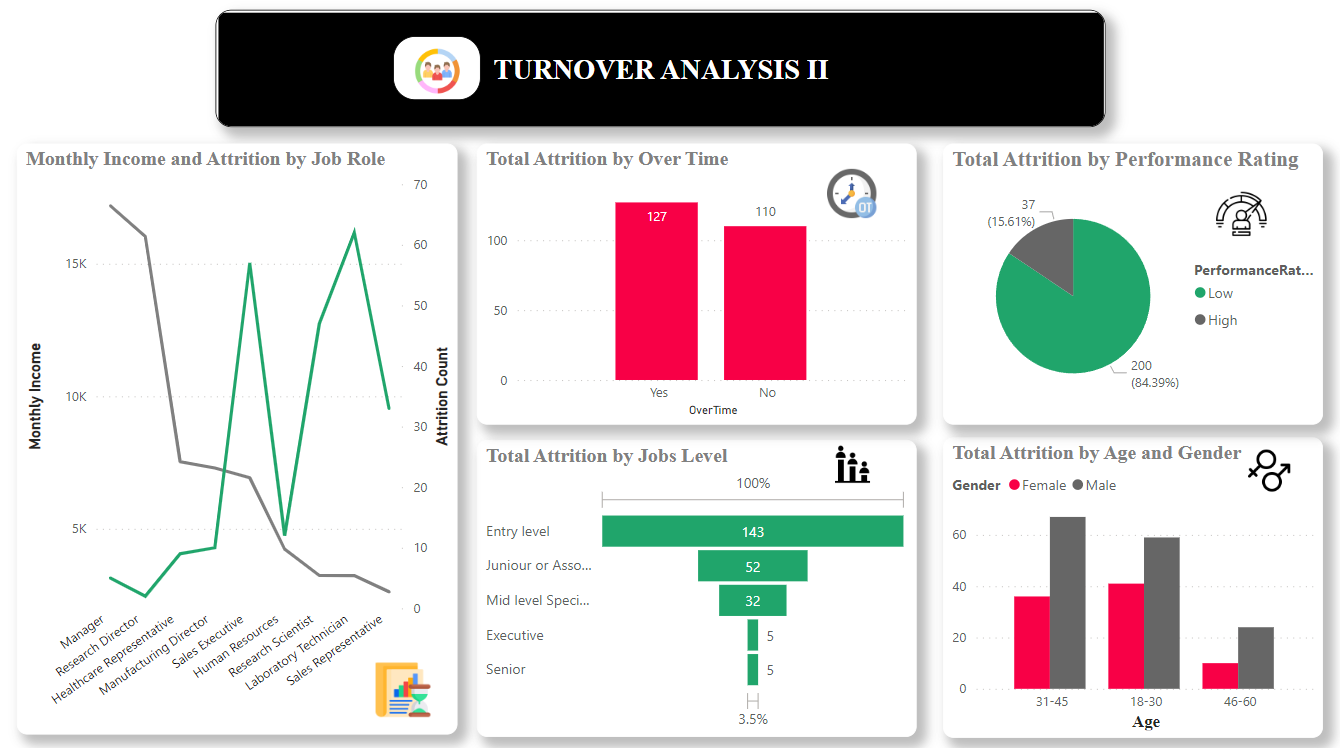

The page's visual inventory and layout, read from the dashboard file:
{"tool":"powerbi","page":{"name":"Page 4","canvas":[1280,720],"ordinal":3},"visuals":[{"type":"shape","title":"DAS","box":[205.7,12.9,842.9,111.4],"z":0},{"type":"clusteredColumnChart","title":"Total Attrition by Age and Gender","fields":{"Category":["HR-Employee-Attrition.Age (groups)"],"Y":["Sum(HR-Employee-Attrition.Attrition Count)"],"Series":["HR-Employee-Attrition.Gender"]},"box":[895.1,417.9,360.1,284.9],"z":1000},{"type":"pieChart","title":"Total Attrition by Performance Rating","fields":{"Y":["Sum(HR-Employee-Attrition.Attrition Count)"],"Category":["HR-Employee-Attrition.PerformanceRating (groups)"]},"box":[895.1,140.3,360.1,266.1],"z":2000},{"type":"funnel","title":"Total Attrition by Jobs Level","fields":{"Category":["HR-Employee-Attrition.JobLevel (groups)"],"Y":["Sum(HR-Employee-Attrition.Attrition Count)"]},"box":[454.1,420.8,416.5,282],"z":3000},{"type":"lineChart","title":"Monthly Income and Attrition by Job Role","fields":{"Category":["HR-Employee-Attrition.JobRole"],"Y":["Avg(HR-Employee-Attrition.MonthlyIncome)"],"Y2":["Sum(HR-Employee-Attrition.Attrition Count)"]},"box":[17.4,140.3,417.9,559.6],"z":4000},{"type":"columnChart","title":"Total Attrition by Over Time","fields":{"Category":["HR-Employee-Attrition.OverTime"],"Y":["Sum(HR-Employee-Attrition.Attrition Count)"]},"box":[454.1,140.3,416.5,266.1],"z":5000},{"type":"image","box":[374.3,38.5,82.8,60.7],"z":6000},{"type":"image","box":[352.8,626.1,62.2,62.2],"z":7000},{"type":"image","box":[779.4,157.6,59.3,59.3],"z":8000},{"type":"image","box":[782.3,415,53.5,57.8],"z":9000},{"type":"image","box":[1145.2,177.9,65.1,57.8],"z":10000},{"type":"image","box":[1178.5,420.8,52.1,57.8],"z":11000}]}

Visuals, with their boxes in screenshot pixels (x1, y1, x2, y2), scaled from the page's 1280x720 canvas onto the 1340x748 screenshot:
"DAS" shape: [215, 13, 1098, 129]
"Total Attrition by Age and Gender" clusteredColumnChart: [937, 434, 1314, 730]
"Total Attrition by Performance Rating" pieChart: [937, 146, 1314, 422]
"Total Attrition by Jobs Level" funnel: [475, 437, 911, 730]
"Monthly Income and Attrition by Job Role" lineChart: [18, 146, 456, 727]
"Total Attrition by Over Time" columnChart: [475, 146, 911, 422]
image: [392, 40, 479, 103]
image: [369, 650, 434, 715]
image: [816, 164, 878, 225]
image: [819, 431, 875, 491]
image: [1199, 185, 1267, 245]
image: [1234, 437, 1288, 497]
